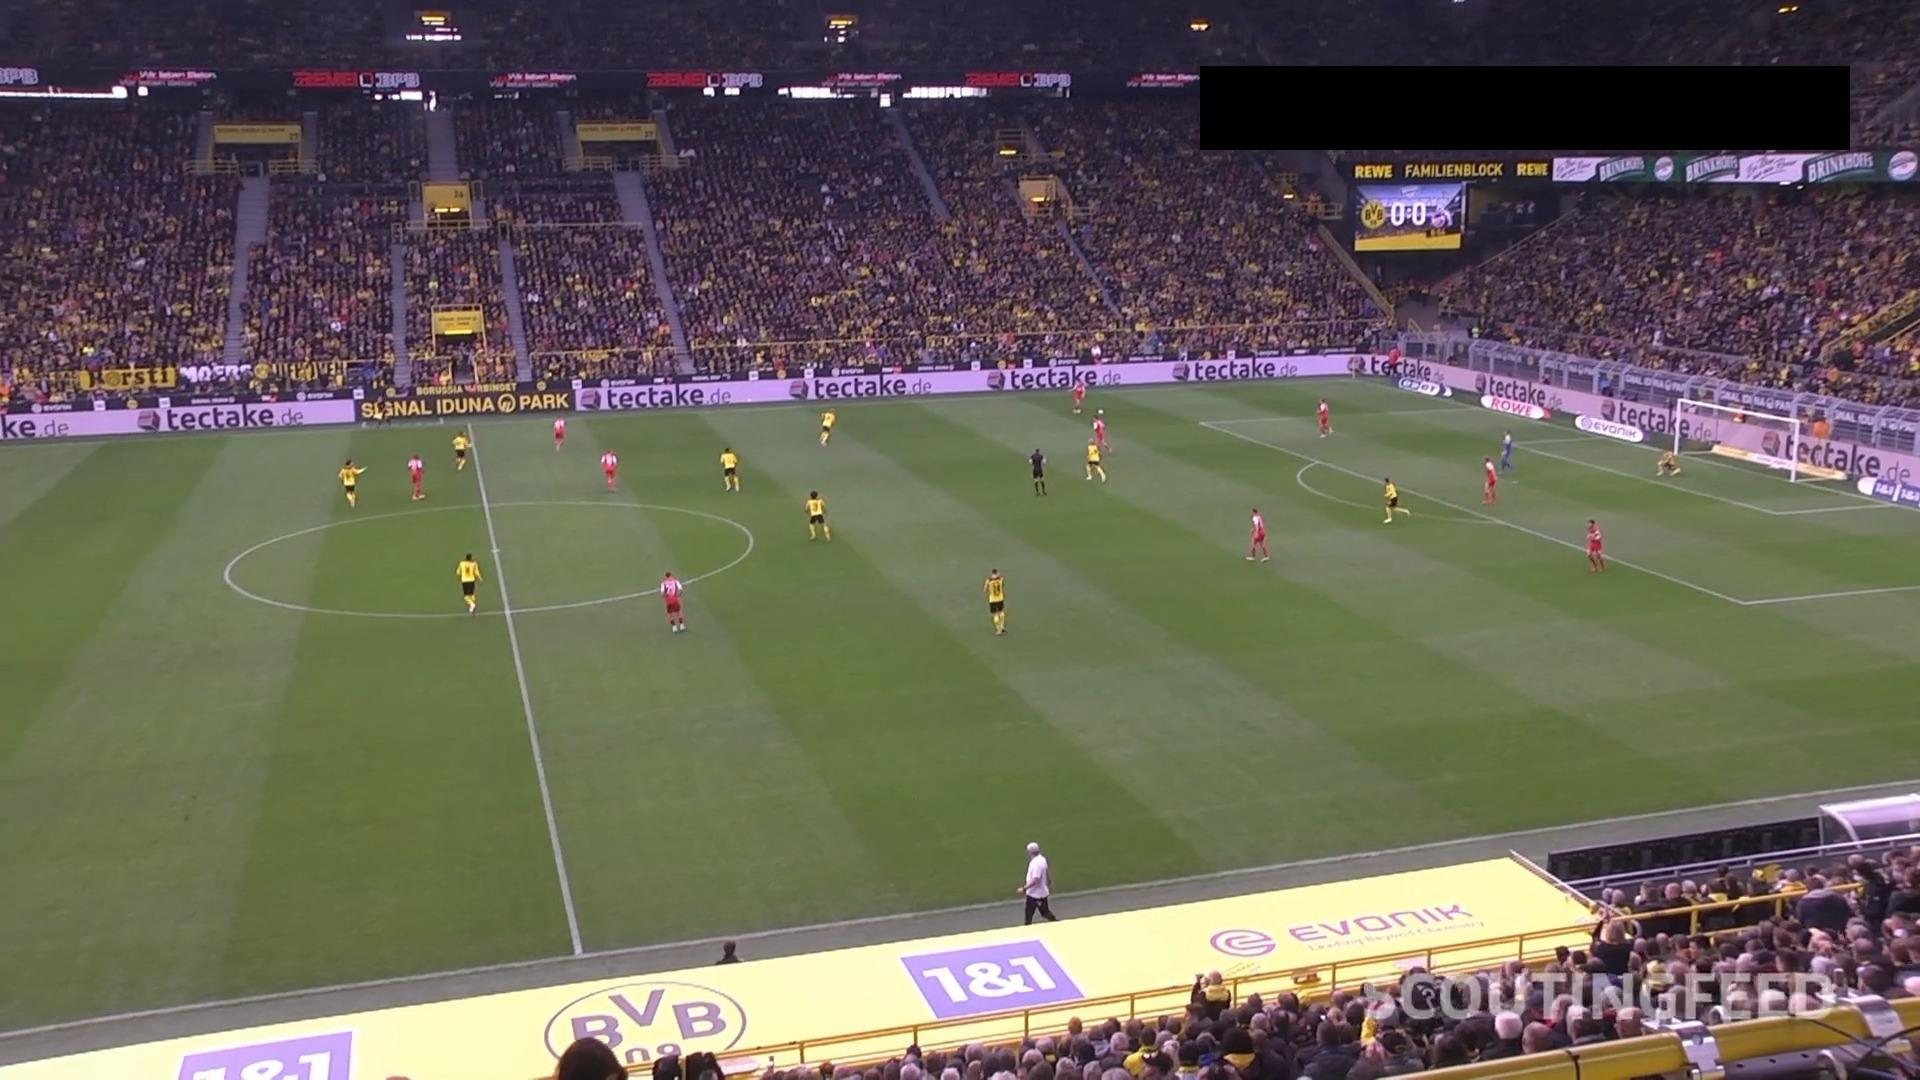coach: (1017, 840, 1057, 924)
player: (454, 552, 483, 614), (659, 570, 686, 632), (983, 567, 1007, 635), (1245, 505, 1270, 562), (804, 489, 831, 541), (337, 458, 365, 508), (1381, 475, 1409, 523), (1584, 518, 1605, 572), (1090, 408, 1113, 454), (1083, 438, 1107, 482), (718, 446, 739, 492), (406, 452, 425, 500), (599, 448, 618, 491), (1481, 456, 1497, 504), (1655, 447, 1681, 476), (450, 431, 469, 470), (1499, 428, 1514, 472), (1316, 396, 1332, 437), (817, 409, 835, 445), (1071, 379, 1086, 414), (551, 415, 565, 451)
referee: (1028, 446, 1046, 495), (371, 395, 394, 430)
